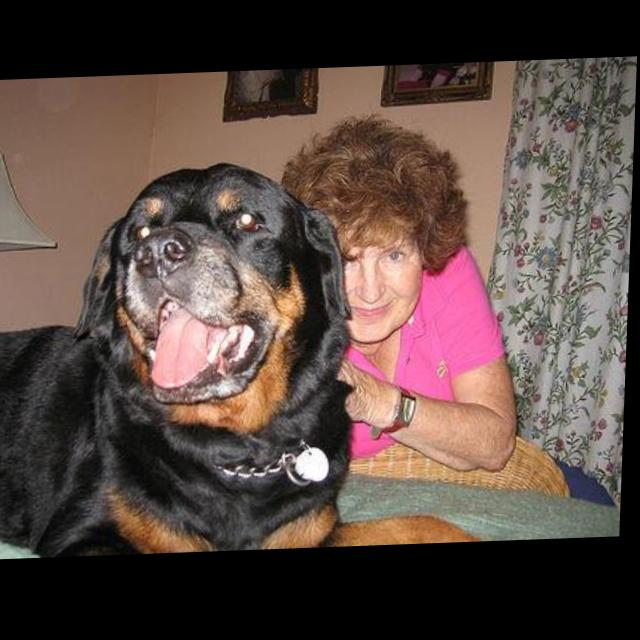face: (341, 230, 426, 347)
person: (273, 113, 531, 483)
rottweiler: (1, 151, 622, 561)
